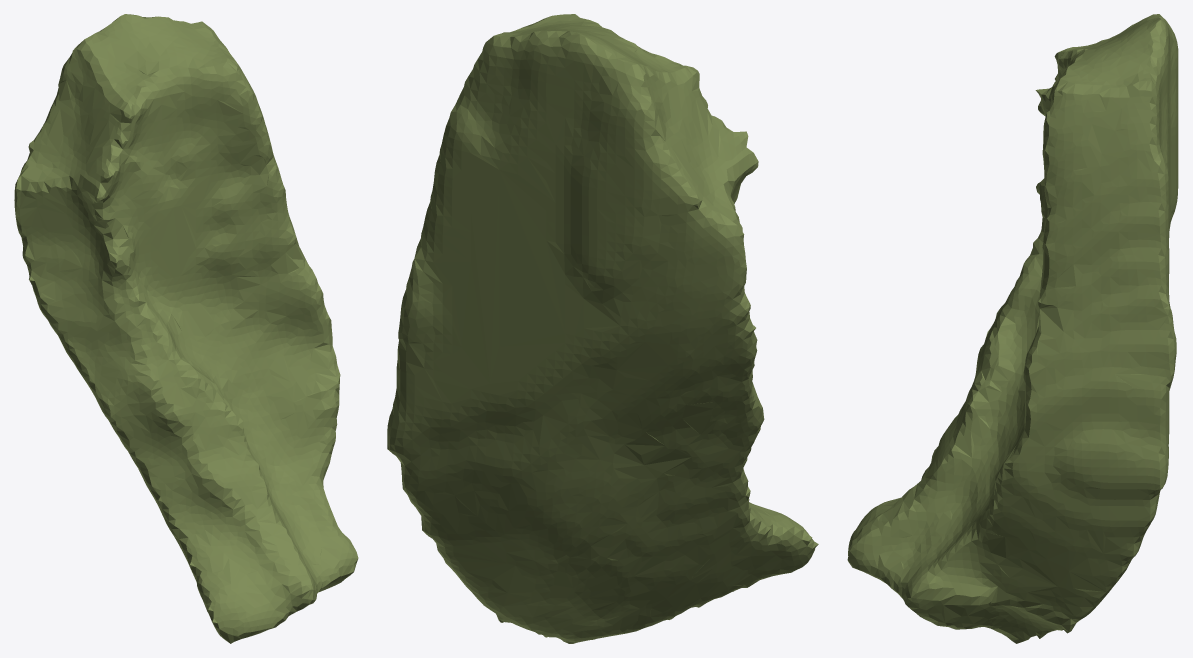
Rendered from Model_89_RH__Entorhinal_cortex_(Ent).obj.
3 renders of one model, left to right at view 1: azimuth 30°, elevation 25°; view 2: azimuth 150°, elevation 25°; view 3: azimuth 270°, elevation 25°, orthographic. The views are drawn at different scales.
Size of the model in its own units: 3.68 by 7.05 by 3.61.
